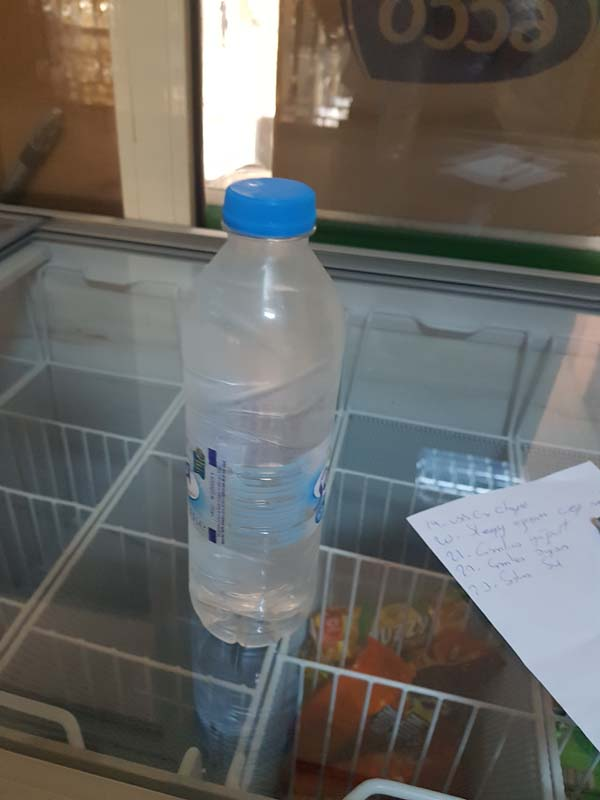saka500mlsu: (177, 174, 352, 650)
